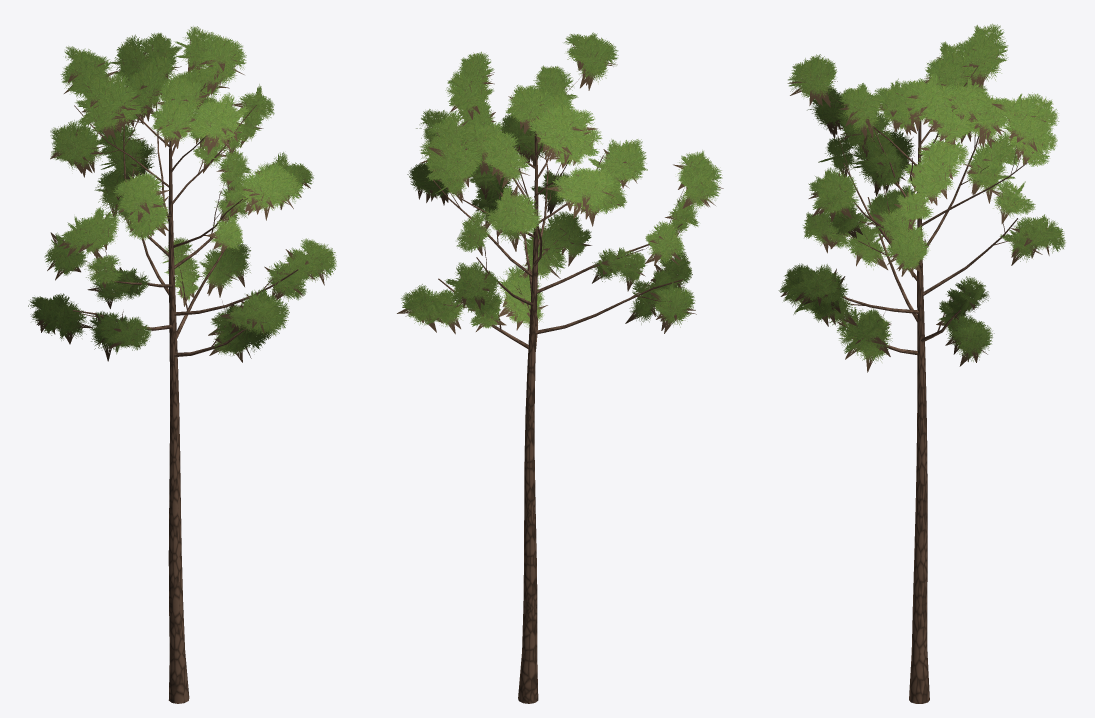
The model's file is veg_slash_pine_a.fbx.
3 views of the same model, side by side, from view 1: azimuth 30°, elevation 25°; view 2: azimuth 150°, elevation 25°; view 3: azimuth 270°, elevation 25° (orthographic).
Visible parts, largest first — view 1: veg_slash_pine_a_LOD0; view 2: veg_slash_pine_a_LOD0; view 3: veg_slash_pine_a_LOD0.
Boxes of the visible parts, x1,y1,x2,y2 form: veg_slash_pine_a_LOD0: (28,26,336,703); veg_slash_pine_a_LOD0: (397,32,723,703); veg_slash_pine_a_LOD0: (778,23,1065,703).
Size of what is drawn, in the model's own units: 13.55 by 27.7 by 12.17.
2 materials, 2 textured.
